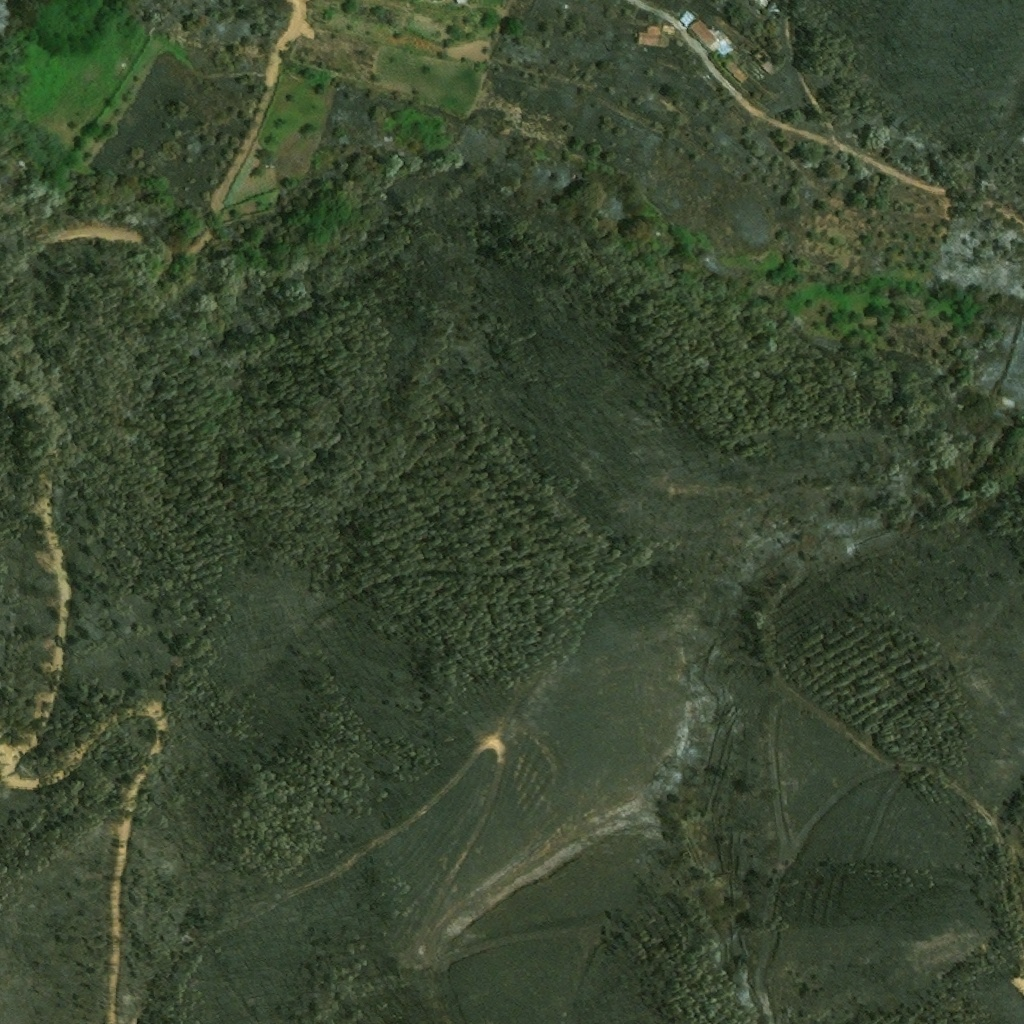0 no-damage: (688, 19, 734, 56), (637, 25, 674, 47), (726, 62, 749, 84), (679, 11, 696, 26), (662, 23, 675, 34)
3 destroyed: (753, 49, 782, 77)
4 un-classified: (762, 0, 777, 6), (458, 0, 468, 3)
